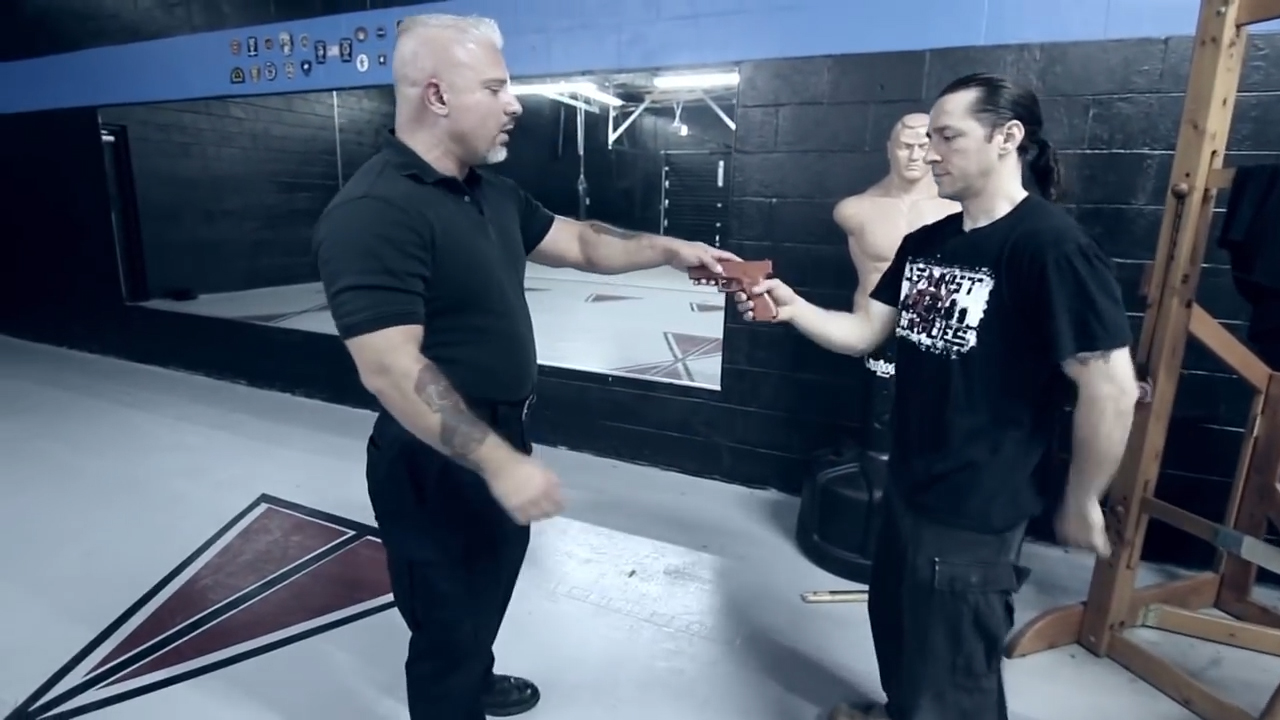pistol: (687, 257, 780, 324)
